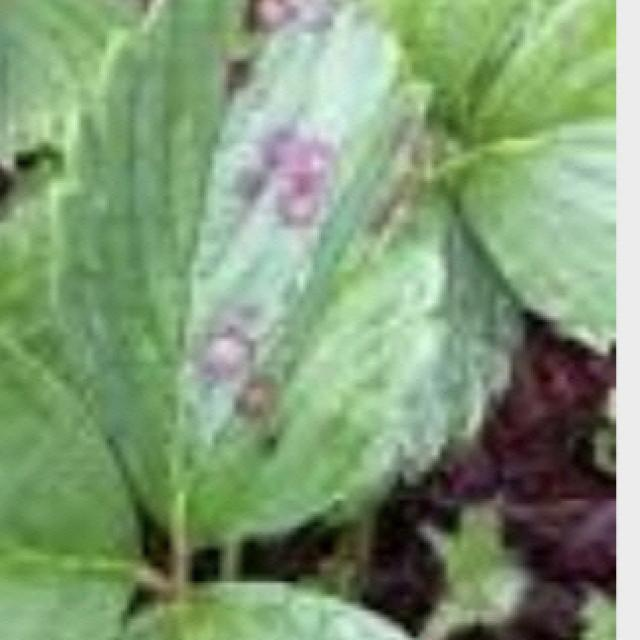Leaf Spot: (47, 0, 529, 554)
